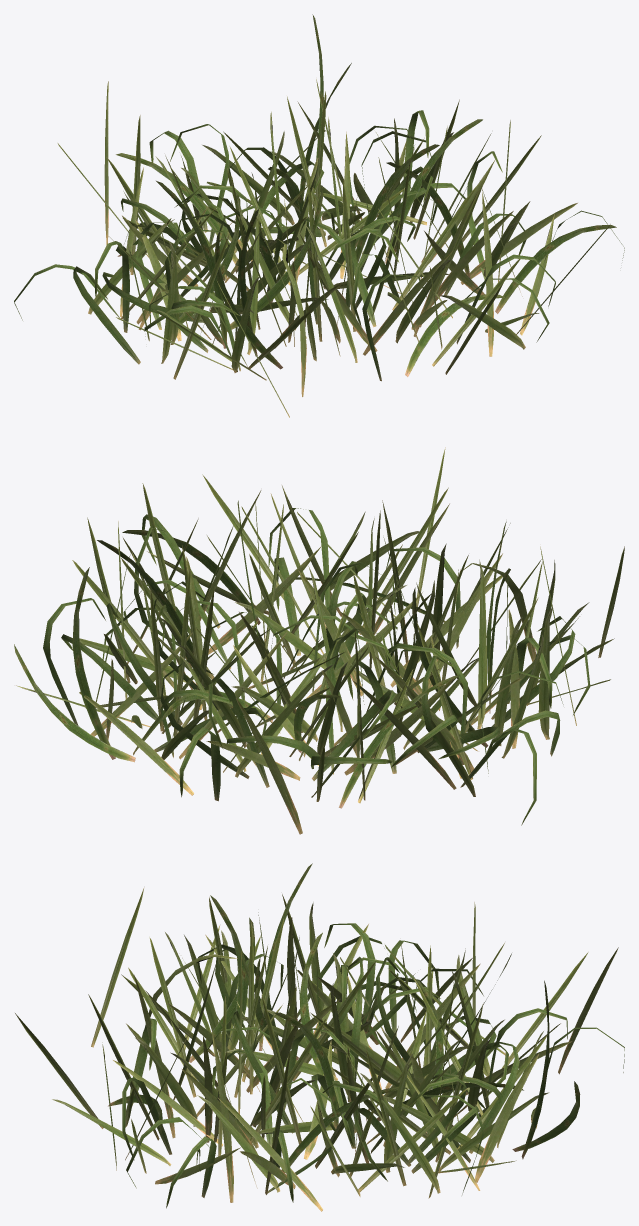
File: grass.glb
3 views of the same model, one above another, from view 1: azimuth 30°, elevation 25°; view 2: azimuth 150°, elevation 25°; view 3: azimuth 270°, elevation 25° (orthographic). The views are drawn at different scales.
Visible parts, largest first — view 1: Realistic grass clump; view 2: Realistic grass clump; view 3: Realistic grass clump.
Part boxes in pixels (left/top/right/bottom): Realistic grass clump: left=14, top=14, right=624, bottom=417; Realistic grass clump: left=14, top=447, right=624, bottom=834; Realistic grass clump: left=15, top=863, right=624, bottom=1211.
Bounding box in the file's own units: 0.527 × 0.1972 × 0.5523.
1 material, 1 textured.
